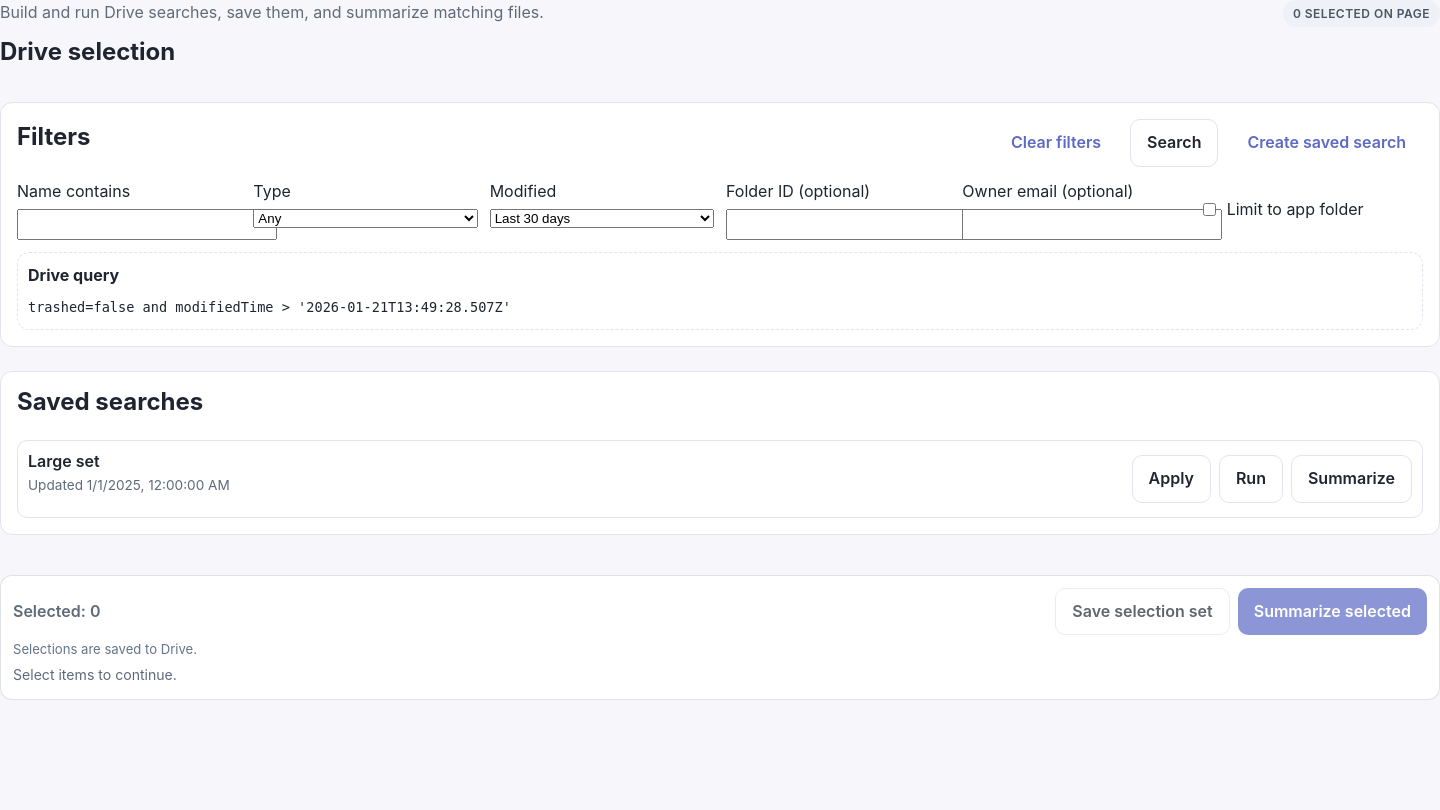
Scenario: DriveSelectClient › caps summarize saved search collection at 50 files
Check: the text "Large set" is shown, box [28,451,100,471]
Click the button "Summarize" at (1351, 479), box [1291,455,1412,503]
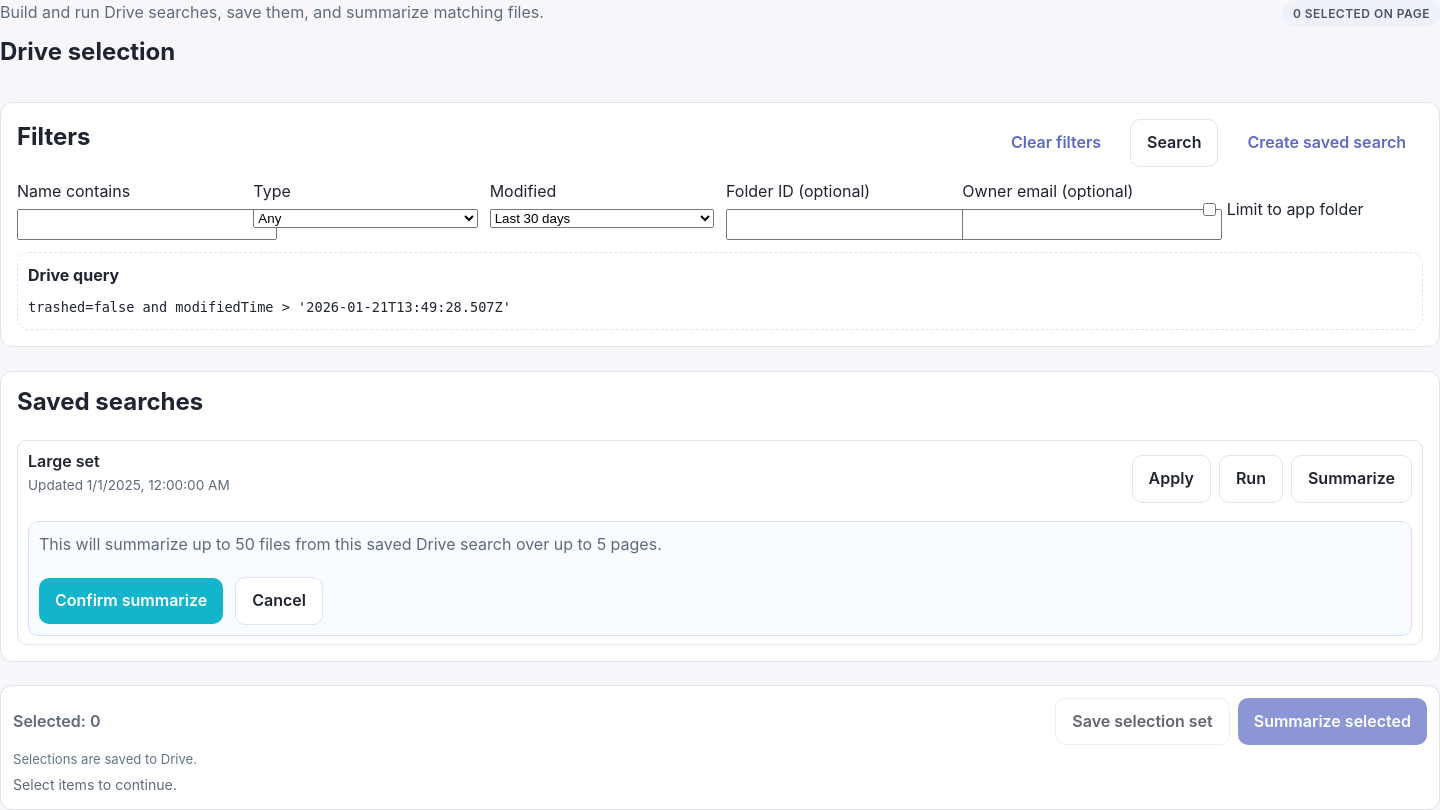
Click the button "Confirm summarize" at (131, 601), box [39,578,223,624]
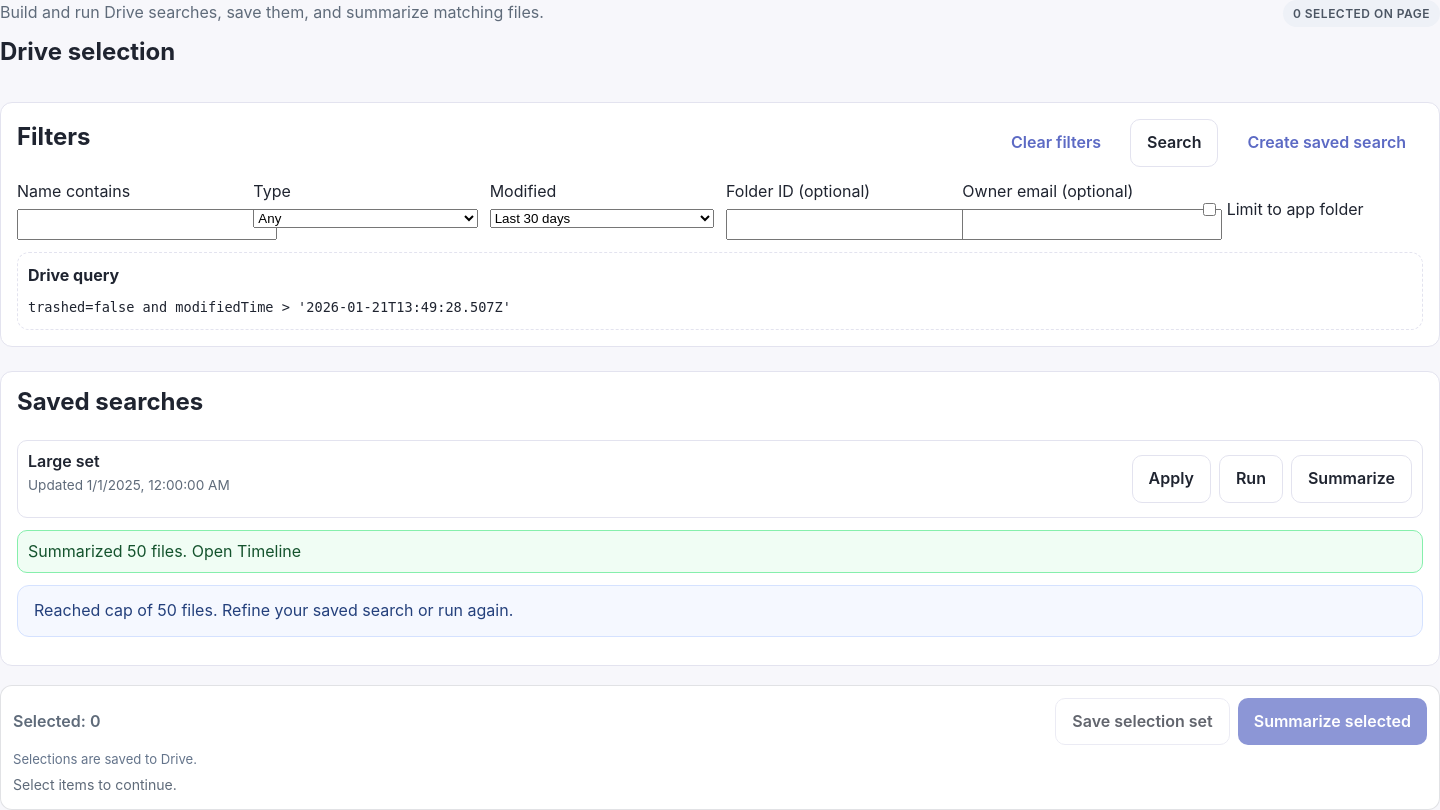
Check: the text "Reached cap of 50 files" is shown, box [34,600,513,620]
